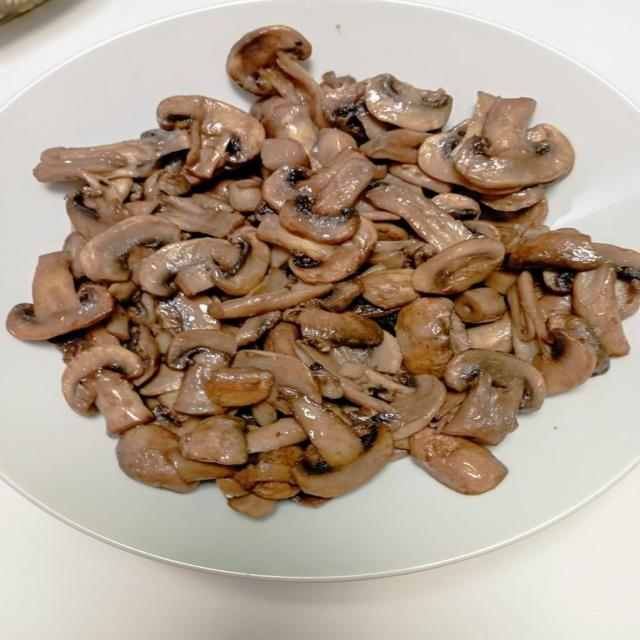champignon mushrooms: (7, 26, 639, 516), (453, 98, 573, 190), (7, 251, 113, 339), (157, 96, 265, 180), (62, 346, 153, 434), (34, 132, 191, 182), (293, 425, 393, 497), (80, 217, 180, 282), (411, 427, 506, 494), (445, 350, 546, 411), (227, 25, 311, 95), (139, 238, 239, 296), (117, 424, 197, 492), (412, 238, 504, 295), (291, 396, 363, 468), (573, 265, 629, 356), (365, 75, 452, 131), (395, 298, 453, 376), (209, 285, 331, 319), (534, 329, 596, 395), (507, 229, 603, 271), (212, 227, 270, 295), (293, 310, 383, 351), (180, 416, 247, 465), (205, 368, 274, 406), (454, 287, 506, 324)
